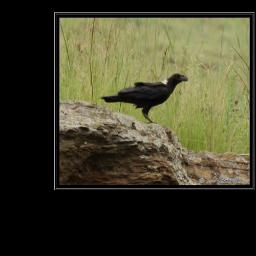Crow: (100, 73, 189, 124)
